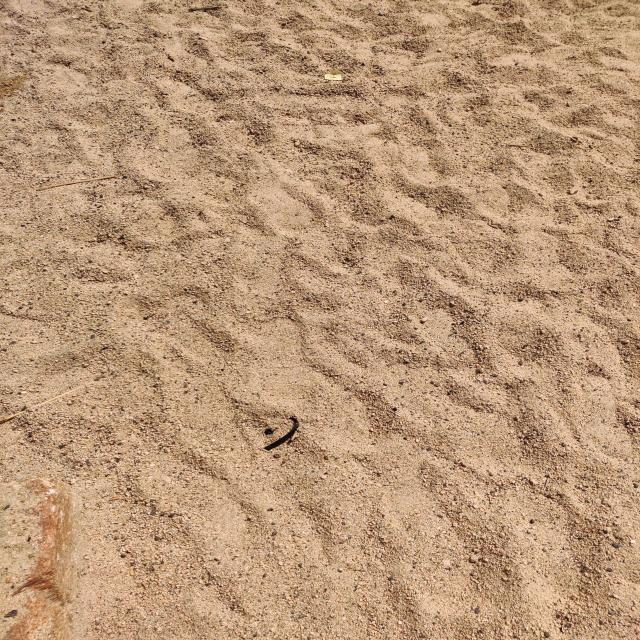litter: (324, 69, 342, 80)
